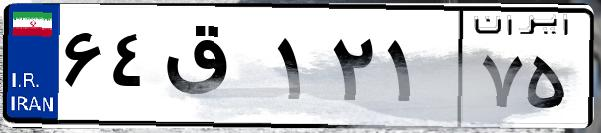1: (270, 28, 330, 110), (385, 28, 445, 110)
2: (330, 28, 385, 110)
4: (110, 28, 158, 98)
5: (525, 38, 570, 115)
6: (57, 26, 110, 100)
7: (475, 38, 525, 113)
ق: (158, 20, 270, 120)
